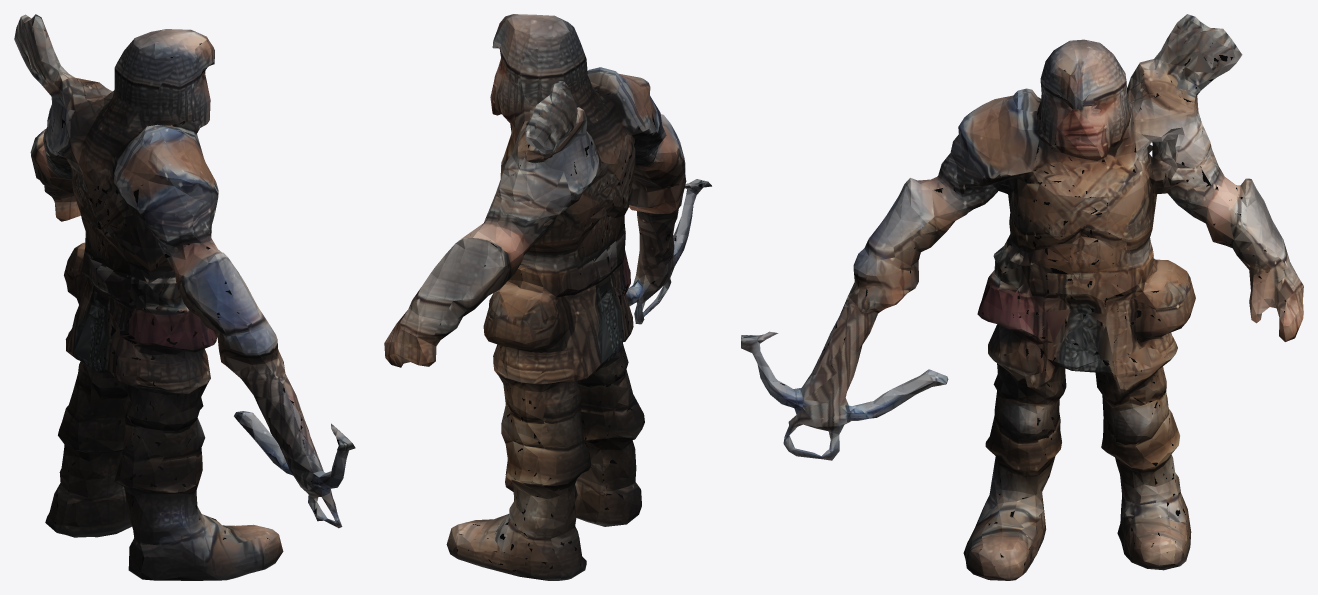
File: minion_range_2.glb
3 views of the same model, side by side, from view 1: azimuth 30°, elevation 25°; view 2: azimuth 150°, elevation 25°; view 3: azimuth 270°, elevation 25° (orthographic).
Visible parts, largest first — view 1: test (13); view 2: test (13); view 3: test (13).
Boxes of the visible parts, <box> form: test (13): <box>14,14,355,580</box>; test (13): <box>384,14,711,580</box>; test (13): <box>741,14,1303,580</box>.
Size of the model in its own units: 0.7007 by 2.2 by 2.21.
1 material, 1 textured.
